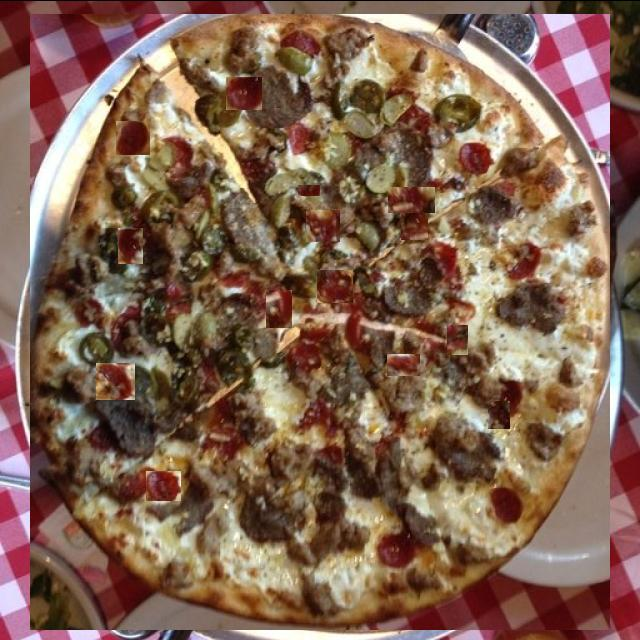pepperoni: (485, 282, 526, 333), (96, 362, 135, 399), (266, 283, 294, 334), (388, 186, 435, 212), (226, 76, 262, 109), (317, 269, 353, 302), (116, 120, 150, 154), (488, 142, 522, 175), (306, 209, 340, 241), (146, 470, 181, 500), (266, 289, 292, 327), (401, 203, 428, 239), (118, 227, 143, 263), (449, 470, 472, 508), (351, 330, 386, 354), (181, 368, 207, 400), (325, 490, 353, 517), (387, 353, 420, 375), (322, 592, 361, 610), (448, 324, 470, 354), (488, 400, 510, 428), (209, 512, 235, 534), (298, 184, 320, 195)
pizza: (30, 13, 610, 629)
